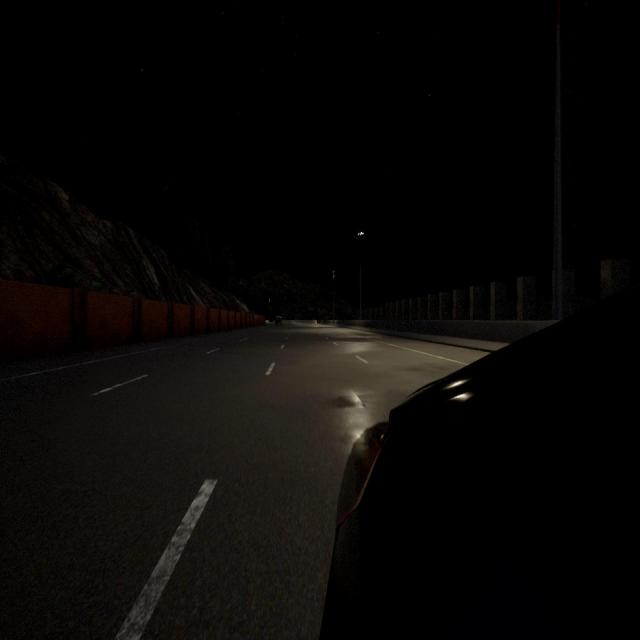Vehicle: (320, 286, 640, 637), (276, 316, 282, 326)
